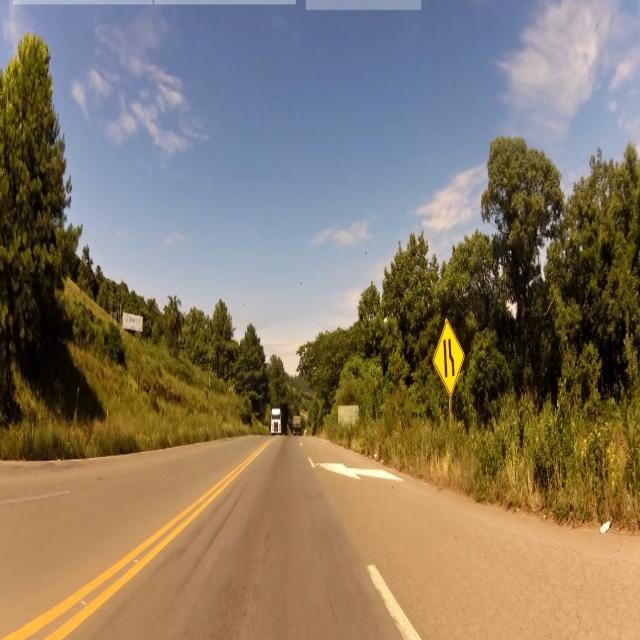A-21c: (433, 317, 466, 402)
